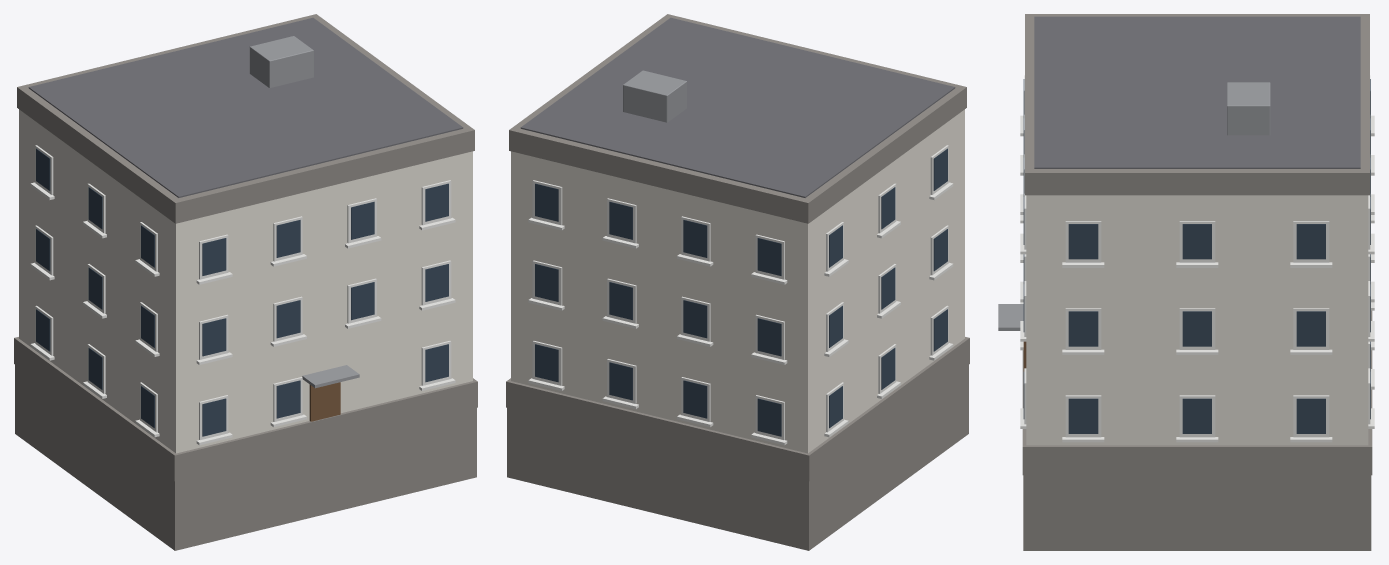
File: house_b.glb
3 views of the same model, side by side, from view 1: azimuth 30°, elevation 25°; view 2: azimuth 150°, elevation 25°; view 3: azimuth 270°, elevation 25° (orthographic). The views are drawn at different scales.
Visible parts, largest first — view 1: house_b; view 2: house_b; view 3: house_b.
Boxes of the visible parts, x1,y1,x2,y2 form: house_b: (14, 14, 477, 550); house_b: (506, 14, 969, 550); house_b: (998, 14, 1374, 550).
Bounding box in the file's own units: 12.4 × 14.5 × 12.1.
